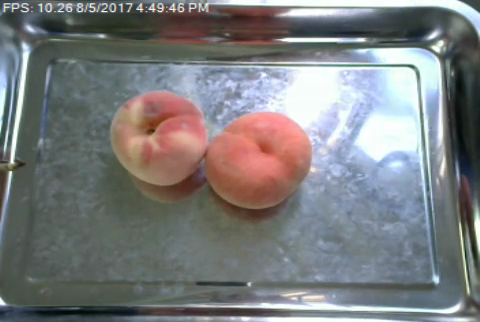Peach: (203, 111, 311, 207), (109, 90, 208, 187)
